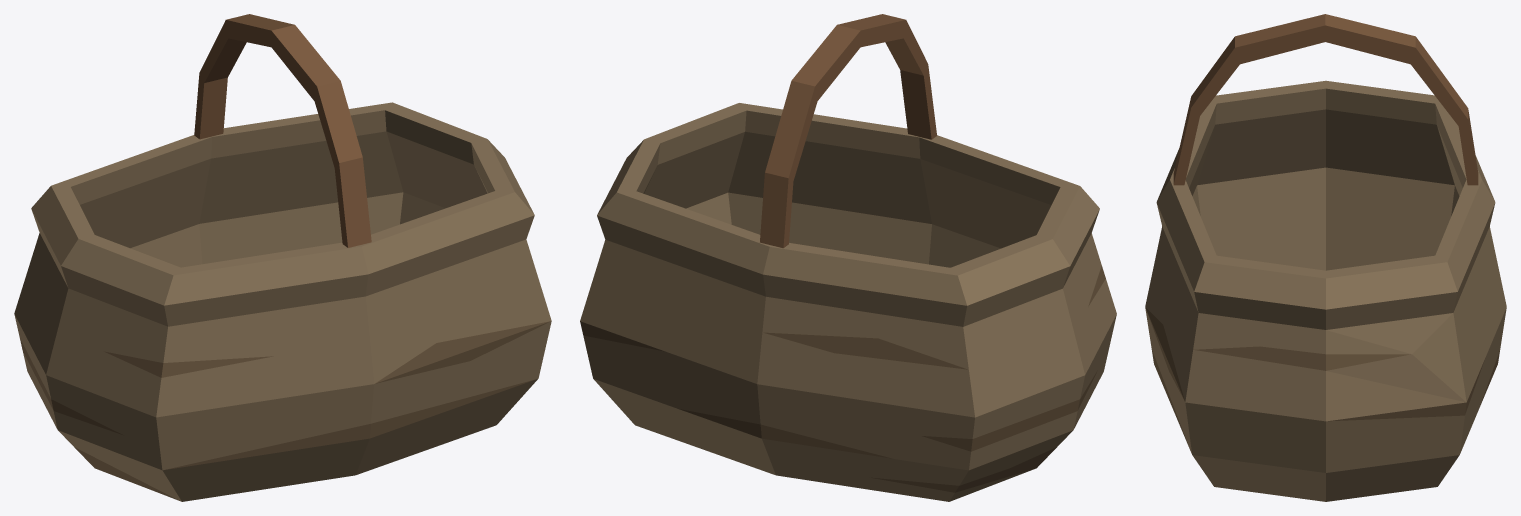
Rendered from basket_b.glb.
3 views of the same model, side by side, from view 1: azimuth 30°, elevation 25°; view 2: azimuth 150°, elevation 25°; view 3: azimuth 270°, elevation 25° (orthographic).
Visible parts, largest first — view 1: SM_Prop_Basket_02; view 2: SM_Prop_Basket_02; view 3: SM_Prop_Basket_02.
Boxes of the visible parts, x1,y1,x2,y2 form: SM_Prop_Basket_02: (14, 14, 551, 501); SM_Prop_Basket_02: (580, 14, 1116, 501); SM_Prop_Basket_02: (1145, 14, 1506, 501).
Bounding box in the file's own units: 58.33 × 46.58 × 38.91.
1 material, 1 textured.
